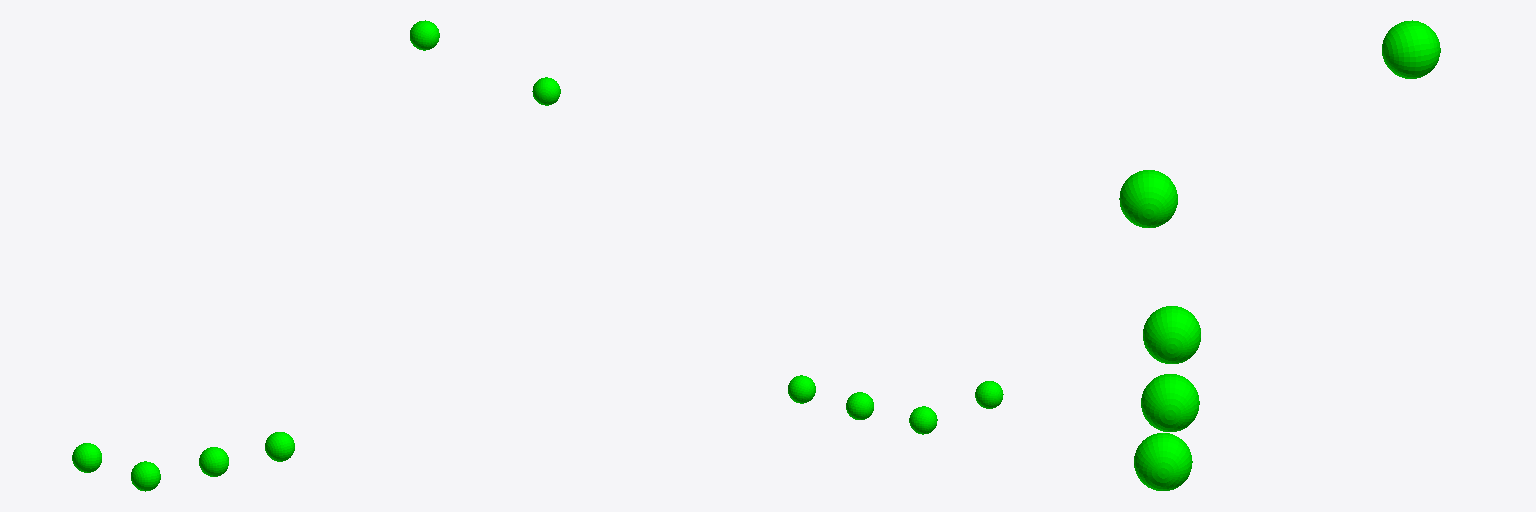
robot.urdf — urdf_right_11_5:
<robot
  name="urdf_right_11_5">
  
  <!-- <link name="world"/>

  <joint name="R_hand_base_joint" type="fixed">
    <origin
    xyz="0.5 0.5 0.001"
    rpy="3.14  0 1.57" />
    <parent link="world"/>
    <child link="right_base_link"/>
  </joint> -->

  <link
    name="right_base_link">
    <inertial>
      <origin
        xyz="-4.91696692515552E-05 -0.00297934158474353 -0.0724838074966582"
        rpy="0 0 0" />
      <mass
        value="0.260034351097693" />
      <inertia
        ixx="0.000240584294557413"
        ixy="1.12900341553271E-06"
        ixz="5.34716263010627E-07"
        iyy="0.000284423438713157"
        iyz="-1.41174524262487E-05"
        izz="0.000155854672271766" />
    </inertial>
    <visual>
      <origin
        xyz="0 0 0"
        rpy="0 0 0" />
      <geometry>
        <mesh
          filename="../meshes/right_base_link.STL" />
      </geometry>
      <material
        name="">
        <color
          rgba="1 1 1 1" />
      </material>
    </visual>
    <collision>
      <origin
        xyz="0 0 0"
        rpy="0 0 0" />
      <geometry>
        <mesh
          filename="../meshes/right_base_link.STL" />
      </geometry>
    </collision>
  </link>

  <link
    name="right_thumb_1">
    <inertial>
      <origin
        xyz="-0.00178423179132732 0.000649410769092404 0.00488589310434417"
        rpy="0 0 0" />
      <mass
        value="0.00115518743162309" />
      <inertia
        ixx="5.98911473694571E-08"
        ixy="-8.04324266712912E-09"
        ixz="-3.29346964287939E-09"
        iyy="4.07201940087006E-08"
        iyz="1.1987242259973E-09"
        izz="6.18161684388651E-08" />
    </inertial>
    <visual>
      <origin
        xyz="0 0 0"
        rpy="0 0 0" />
      <geometry>
        <mesh
          filename="../meshes/right_thumb_1.STL" />
      </geometry>
      <material
        name="">
        <color
          rgba="1 1 1 1" />
      </material>
    </visual>
    <collision>
      <origin
        xyz="0 0 0"
        rpy="0 0 0" />
      <geometry>
        <mesh
          filename="../meshes/right_thumb_1.STL" />
      </geometry>
    </collision>
  </link>
  <joint
    name="right_thumb_1_joint"
    type="revolute">
    <origin
      xyz="0.0269 0.02101 -0.069"
      rpy="-3.1416 0 -3.1416" />
    <parent
      link="right_base_link" />
    <child
      link="right_thumb_1" />
    <axis
      xyz="0 0 -1" />
    <limit
      lower="0"
      upper="1.15"
      effort="10"
      velocity="1" />
  </joint>
  <link
    name="right_thumb_2">
    <inertial>
      <origin
        xyz="0.0141071308121962 0.0132720367246953 -0.00905029680056009"
        rpy="0 0 0" />
      <mass
        value="0.016" />
      <inertia
        ixx="1.06573287501608E-06"
        ixy="-7.61985755293293E-08"
        ixz="-2.57609628655293E-11"
        iyy="1.06536320559038E-06"
        iyz="5.09603163270097E-12"
        izz="1.39688473195303E-06" />
    </inertial>
    <visual>
      <origin
        xyz="0 0 0"
        rpy="0 0 0" />
      <geometry>
        <mesh
          filename="../meshes/right_thumb_2.STL" />
      </geometry>
      <material
        name="">
        <color
          rgba="1 1 1 1" />
      </material>
    </visual>
    <collision>
      <origin
        xyz="0 0 0"
        rpy="0 0 0" />
      <geometry>
        <mesh
          filename="../meshes/right_thumb_2.STL" />
      </geometry>
    </collision>
  </link>
  <joint
    name="right_thumb_2_joint"
    type="revolute">
    <origin
      xyz="-0.0063016 0.011924 0.003"
      rpy="1.5708 0 2.7925" />
    <parent
      link="right_thumb_1" />
    <child
      link="right_thumb_2" />
    <axis
      xyz="0 0 1" />
    <limit
      lower="0"
      upper="0.55"
      effort="10"
      velocity="1" />
  </joint>
  <link
    name="right_thumb_3">
    <inertial>
      <origin
        xyz="0.00937843602210774 0.00404407714692963 -0.00753947150343212"
        rpy="0 0 0" />
      <mass
        value="0.012" />
      <inertia
        ixx="4.67837152048068E-07"
        ixy="-4.50034504480504E-08"
        ixz="-7.50604972036399E-11"
        iyy="3.98821847444202E-07"
        iyz="-2.80308780973008E-10"
        izz="4.24792779381109E-07" />
    </inertial>
    <visual>
      <origin
        xyz="0 0 0"
        rpy="0 0 0" />
      <geometry>
        <mesh
          filename="../meshes/right_thumb_3.STL" />
      </geometry>
      <material
        name="">
        <color
          rgba="1 1 1 1" />
      </material>
    </visual>
    <collision>
      <origin
        xyz="0 0 0"
        rpy="0 0 0" />
      <geometry>
        <mesh
          filename="../meshes/right_thumb_3.STL" />
      </geometry>
    </collision>
  </link>
  <joint
    name="right_thumb_3_joint"
    type="revolute">
    <origin
      xyz="0.034968 0.021325 -0.0015"
      rpy="0 0 0" />
    <parent
      link="right_thumb_2" />
    <child
      link="right_thumb_3" />
    <axis
      xyz="0 0 1" />
    <limit
      lower="0"
      upper="3.14"
      effort="10"
      velocity="1" />
    <mimic
        joint="right_thumb_2_joint"
        multiplier="0.60"
        offset="0" />
  </joint>
  <link
    name="right_thumb_4">
    <inertial>
      <origin
        xyz="0.0109973997213043 0.00131062737520288 -0.0073435196000655"
        rpy="0 0 0" />
      <mass
        value="0.01" />
      <inertia
        ixx="6.43617695804108E-07"
        ixy="-2.57371067432159E-07"
        ixz="8.83834214745077E-10"
        iyy="7.63665185138253E-07"
        iyz="7.47494238463672E-10"
        izz="9.2568863295396E-07" />
    </inertial>
    <visual>
      <origin
        xyz="0 0 0"
        rpy="0 0 0" />
      <geometry>
        <mesh
          filename="../meshes/right_thumb_4.STL" />
      </geometry>
      <material
        name="">
        <color
          rgba="1 1 1 1" />
      </material>
    </visual>
    <collision>
      <origin
        xyz="0 0 0"
        rpy="0 0 0" />
      <geometry>
        <mesh
          filename="../meshes/right_thumb_4.STL" />
      </geometry>
    </collision>
  </link>

  <joint
    name="right_thumb_4_joint"
    type="revolute">
    <origin
      xyz="0.018887 0.011501 -0.0002"
      rpy="0 0 0" />
    <parent
      link="right_thumb_3" />
    <child
      link="right_thumb_4" />
    <axis
      xyz="0 0 1" />
    <limit
      lower="0"
      upper="3.14"
      effort="10"
      velocity="1" />
    <mimic
        joint="right_thumb_2_joint"
        multiplier="0.8"
        offset="0" />
  </joint>

  <link name="R_thumb_tip">
    <visual>
      <origin
        xyz="0 0 0"
        rpy="0 0 0" />
      <geometry>
        <sphere radius="0.005"/>
      </geometry>
      <material name="green">
        <color rgba="0 1 0 1" />
      </material>
    </visual>
  </link>

  <joint name="R_thumb_tip_joint" type="fixed">
    <parent link="right_thumb_4"/>
    <child link="R_thumb_tip"/>
    <origin rpy="0 0 0" xyz="0.03 0.020 -0.006"/>
  </joint>

  <link
    name="right_index_1">
    <inertial>
      <origin
        xyz="-0.00183546255523356 0.0123552521861834 -0.00664922294778368"
        rpy="0 0 0" />
      <mass
        value="0.00719999389753264" />
      <inertia
        ixx="1.28371991025318E-06"
        ixy="4.21564829206078E-08"
        ixz="-4.10859703056649E-12"
        iyy="5.79478432222904E-07"
        iyz="6.39690407239206E-11"
        izz="1.32925246769088E-06" />
    </inertial>
    <visual>
      <origin
        xyz="0 0 0"
        rpy="0 0 0" />
      <geometry>
        <mesh
          filename="../meshes/right_index_1.STL" />
      </geometry>
      <material
        name="">
        <color
          rgba="1 1 1 1" />
      </material>
    </visual>
    <collision>
      <origin
        xyz="0 0 0"
        rpy="0 0 0" />
      <geometry>
        <mesh
          filename="../meshes/right_index_1.STL" />
      </geometry>
    </collision>
  </link>
  <joint
    name="right_index_1_joint"
    type="revolute">
    <origin
      xyz="0.038679 0.00056467 -0.1564"
      rpy="-1.5359 0 -1.5708" />
    <parent
      link="right_base_link" />
    <child
      link="right_index_1" />
    <axis
      xyz="0 0 1" />
    <limit
      lower="0"
      upper="1.6"
      effort="10"
      velocity="1" />
  </joint>
  <link
    name="right_index_2">
    <inertial>
      <origin
        xyz="0.000405081354201142 0.0257028143581744 -0.00609275623125877"
        rpy="0 0 0" />
      <mass
        value="0.0096859422185797" />
      <inertia
        ixx="2.25513837942244E-06"
        ixy="4.11239564383381E-07"
        ixz="-3.94499739658711E-10"
        iyy="3.91290903748666E-07"
        iyz="2.79706871963245E-09"
        izz="2.30200483771215E-06" />
    </inertial>
    <visual>
      <origin
        xyz="0 0 0"
        rpy="0 0 0" />
      <geometry>
        <mesh
          filename="../meshes/right_index_2.STL" />
      </geometry>
      <material
        name="">
        <color
          rgba="1 1 1 1" />
      </material>
    </visual>
    <collision>
      <origin
        xyz="0 0 0"
        rpy="0 0 0" />
      <geometry>
        <mesh
          filename="../meshes/right_index_2.STL" />
      </geometry>
    </collision>
  </link>
  <joint
    name="right_index_2_joint"
    type="revolute">
    <origin
      xyz="-0.0016312 0.032734 -0.00055"
      rpy="0 0 0" />
    <parent
      link="right_index_1" />
    <child
      link="right_index_2" />
    <axis
      xyz="0 0 1" />
    <limit
      lower="0"
      upper="3.14"
      effort="10"
      velocity="1" />
    <mimic
        joint="right_index_1_joint"
        multiplier="1.05"
        offset="0" />
  </joint>


  <link name="R_index_tip">
    <visual>
      <origin
        xyz="0 0 0"
        rpy="0 0 0" />
      <geometry>
        <sphere radius="0.005"/>
      </geometry>
      <material name="green">
        <color rgba="0 1 0 1" />
      </material>
    </visual>
  </link>

  <joint name="R_index_tip_joint" type="fixed">
    <parent link="right_index_2"/>
    <child link="R_index_tip"/>
    <origin rpy="0 0 0" xyz="-0.01 0.05 -0.006"/>
  </joint>

  <link
    name="right_middle_1">
    <inertial>
      <origin
        xyz="-0.00229221489529491 0.0122787164691098 -0.00664923691414206"
        rpy="0 0 0" />
      <mass
        value="0.00719999454699651" />
      <inertia
        ixx="1.27961146095209E-06"
        ixy="6.81307502326408E-08"
        ixz="-6.13869092479439E-12"
        iyy="5.83570383259162E-07"
        iyz="6.33401074034573E-11"
        izz="1.32923656099557E-06" />
    </inertial>
    <visual>
      <origin
        xyz="0 0 0"
        rpy="0 0 0" />
      <geometry>
        <mesh
          filename="../meshes/right_middle_1.STL" />
      </geometry>
      <material
        name="">
        <color
          rgba="1 1 1 1" />
      </material>
    </visual>
    <collision>
      <origin
        xyz="0 0 0"
        rpy="0 0 0" />
      <geometry>
        <mesh
          filename="../meshes/right_middle_1.STL" />
      </geometry>
    </collision>
  </link>
  <joint
    name="right_middle_1_joint"
    type="revolute">
    <origin
      xyz="0.0171 0.00056467 -0.157"
      rpy="-1.5708 0 -1.5708" />
    <parent
      link="right_base_link" />
    <child
      link="right_middle_1" />
    <axis
      xyz="0 0 1" />
    <limit
      lower="0"
      upper="1.6"
      effort="10"
      velocity="1" />
  </joint>
  <link
    name="right_middle_2">
    <inertial>
      <origin
        xyz="7.55635061812504E-05 0.0274472409700489 -0.00610051225570537"
        rpy="0 0 0" />
      <mass
        value="0.0104603374357648" />
      <inertia
        ixx="2.75802690517233E-06"
        ixy="4.66354191789105E-07"
        ixz="-3.73412436067728E-12"
        iyy="4.22418749660047E-07"
        iyz="7.48571284682703E-11"
        izz="2.80694637912416E-06" />
    </inertial>
    <visual>
      <origin
        xyz="0 0 0"
        rpy="0 0 0" />
      <geometry>
        <mesh
          filename="../meshes/right_middle_2.STL" />
      </geometry>
      <material
        name="">
        <color
          rgba="1 1 1 1" />
      </material>
    </visual>
    <collision>
      <origin
        xyz="0 0 0"
        rpy="0 0 0" />
      <geometry>
        <mesh
          filename="../meshes/right_middle_2.STL" />
      </geometry>
    </collision>
  </link>
  <joint
    name="right_middle_2_joint"
    type="revolute">
    <origin
      xyz="-0.0028436 0.032651 -0.00055"
      rpy="0 0 0" />
    <parent
      link="right_middle_1" />
    <child
      link="right_middle_2" />
    <axis
      xyz="0 0 1" />
    <limit
      lower="0"
      upper="3.14"
      effort="10"
      velocity="1" />
    <mimic
        joint="right_middle_1_joint"
        multiplier="1.05"
        offset="0" />
  </joint>

  <link name="R_middle_tip">
    <visual>
      <origin
        xyz="0 0 0"
        rpy="0 0 0" />
      <geometry>
        <sphere radius="0.005"/>
      </geometry>
      <material name="green">
        <color rgba="0 1 0 1" />
      </material>
    </visual>
  </link>

  <joint name="R_middle_tip_joint" type="fixed">
    <parent link="right_middle_2"/>
    <child link="R_middle_tip"/>
    <origin rpy="0 0 0" xyz="-0.01 0.05 -0.006"/>
  </joint>


  <link
    name="right_ring_1">
    <inertial>
      <origin
        xyz="-0.00240481178777661 0.0122571709475593 -0.00664923625225445"
        rpy="0 0 0" />
      <mass
        value="0.00719998997814135" />
      <inertia
        ixx="1.27830103769765E-06"
        ixy="7.45073064952646E-08"
        ixz="-6.73880804360017E-12"
        iyy="5.84879553082369E-07"
        iyz="6.3350585052199E-11"
        izz="1.32923557625193E-06" />
    </inertial>
    <visual>
      <origin
        xyz="0 0 0"
        rpy="0 0 0" />
      <geometry>
        <mesh
          filename="../meshes/right_ring_1.STL" />
      </geometry>
      <material
        name="">
        <color
          rgba="1 1 1 1" />
      </material>
    </visual>
    <collision>
      <origin
        xyz="0 0 0"
        rpy="0 0 0" />
      <geometry>
        <mesh
          filename="../meshes/right_ring_1.STL" />
      </geometry>
    </collision>
  </link>
  <joint
    name="right_ring_1_joint"
    type="revolute">
    <origin
      xyz="-0.0045302 0.00056467 -0.15683"
      rpy="-1.6232 0 -1.5708" />
    <parent
      link="right_base_link" />
    <child
      link="right_ring_1" />
    <axis
      xyz="0 0 1" />
    <limit
      lower="0"
      upper="1.6"
      effort="10"
      velocity="1" />
  </joint>
  <link
    name="right_ring_2">
    <inertial>
      <origin
        xyz="0.000666830906754845 0.0256973412492289 -0.0060927714564012"
        rpy="0 0 0" />
      <mass
        value="0.0096859390369724" />
      <inertia
        ixx="2.26332196405867E-06"
        ixy="3.92172318180451E-07"
        ixz="-3.65715440420713E-10"
        iyy="3.83108005467821E-07"
        iyz="2.80158649618184E-09"
        izz="2.30200501593561E-06" />
    </inertial>
    <visual>
      <origin
        xyz="0 0 0"
        rpy="0 0 0" />
      <geometry>
        <mesh
          filename="../meshes/right_ring_2.STL" />
      </geometry>
      <material
        name="">
        <color
          rgba="1 1 1 1" />
      </material>
    </visual>
    <collision>
      <origin
        xyz="0 0 0"
        rpy="0 0 0" />
      <geometry>
        <mesh
          filename="../meshes/right_ring_2.STL" />
      </geometry>
    </collision>
  </link>
  <joint
    name="right_ring_2_joint"
    type="revolute">
    <origin
      xyz="-0.0031431 0.032624 -0.00055"
      rpy="0 0 0" />
    <parent
      link="right_ring_1" />
    <child
      link="right_ring_2" />
    <axis
      xyz="0 0 1" />
    <limit
      lower="0"
      upper="3.14"
      effort="10"
      velocity="1" />
    <mimic
        joint="right_ring_1_joint"
        multiplier="1.05"
        offset="0" />
  </joint>

  <link name="R_ring_tip">
    <visual>
      <origin
        xyz="0 0 0"
        rpy="0 0 0" />
      <geometry>
        <sphere radius="0.005"/>
      </geometry>
      <material name="green">
        <color rgba="0 1 0 1" />
      </material>
    </visual>
  </link>

  <joint name="R_ring_tip_joint" type="fixed">
    <parent link="right_ring_2"/>
    <child link="R_ring_tip"/>
    <origin rpy="0 0 0" xyz="-0.01 0.05 -0.006"/>
  </joint>

  <link
    name="right_little_1">
    <inertial>
      <origin
        xyz="-0.00316844591541324 0.0120823779446085 -0.00664923024026526"
        rpy="0 0 0" />
      <mass
        value="0.00719994987013217" />
      <inertia
        ixx="1.26624415714453E-06"
        ixy="1.17303714016617E-07"
        ixz="-1.15327375313821E-11"
        iyy="5.96925804604496E-07"
        iyz="6.36110319315301E-11"
        izz="1.32922857962206E-06" />
    </inertial>
    <visual>
      <origin
        xyz="0 0 0"
        rpy="0 0 0" />
      <geometry>
        <mesh
          filename="../meshes/right_little_1.STL" />
      </geometry>
      <material
        name="">
        <color
          rgba="1 1 1 1" />
      </material>
    </visual>
    <collision>
      <origin
        xyz="0 0 0"
        rpy="0 0 0" />
      <geometry>
        <mesh
          filename="../meshes/right_little_1.STL" />
      </geometry>
    </collision>
  </link>
  <joint
    name="right_little_1_joint"
    type="revolute">
    <origin
      xyz="-0.025916 0.00056467 -0.15365"
      rpy="-1.6755 0 -1.5708" />
    <parent
      link="right_base_link" />
    <child
      link="right_little_1" />
    <axis
      xyz="0 0 1" />
    <limit
      lower="0"
      upper="1.6"
      effort="10"
      velocity="1" />
  </joint>
  <link
    name="right_little_2">
    <inertial>
      <origin
        xyz="0.0204417303421136 -0.00469494170410353 -0.00609999668427265"
        rpy="0 0 0" />
      <mass
        value="0.0075928240732547" />
      <inertia
        ixx="2.31546812157118E-07"
        ixy="-7.27021381773956E-08"
        ixz="2.3664966486269E-11"
        iyy="1.27663957628266E-06"
        iyz="-7.58283070676144E-12"
        izz="1.23909562166535E-06" />
    </inertial>
    <visual>
      <origin
        xyz="0 0 0"
        rpy="0 0 0" />
      <geometry>
        <mesh
          filename="../meshes/right_little_2.STL" />
      </geometry>
      <material
        name="">
        <color
          rgba="1 1 1 1" />
      </material>
    </visual>
    <collision>
      <origin
        xyz="0 0 0"
        rpy="0 0 0" />
      <geometry>
        <mesh
          filename="../meshes/right_little_2.STL" />
      </geometry>
    </collision>
  </link>
  <joint
    name="right_little_2_joint"
    type="revolute">
    <origin
      xyz="-0.005182 0.032363 -0.00055"
      rpy="0 0 1.5708" />
    <parent
      link="right_little_1" />
    <child
      link="right_little_2" />
    <axis
      xyz="0 0 1" />
    <limit
      lower="0"
      upper="3.14"
      effort="10"
      velocity="1" />
    <mimic
        joint="right_little_1_joint"
        multiplier="1.18"
        offset="0" />
  </joint>

  <link name="R_little_tip">
    <visual>
      <origin
        xyz="0 0 0"
        rpy="0 0 0" />
      <geometry>
        <sphere radius="0.005"/>
      </geometry>
      <material name="green">
        <color rgba="0 1 0 1" />
      </material>
    </visual>
  </link>

  <joint name="R_little_tip_joint" type="fixed">
    <parent link="right_little_2"/>
    <child link="R_little_tip"/>
    <origin rpy="0 0 0" xyz="0.04 0.004 -0.006"/>
  </joint>

</robot>

--- Facts derived from the render (not from the file) ---
Views: 3 orthographic renders of the robot side by side, from view 1: azimuth 30°, elevation 25°; view 2: azimuth 150°, elevation 25°; view 3: azimuth 270°, elevation 25°.
Model urdf_right_11_5 with 18 links and 17 joints (12 revolute, 5 fixed), rooted at right_base_link, posed every joint at zero.
Links seen in each view (by area): view 1: R_middle_tip, R_thumb_tip, R_index_tip, R_ring_tip, R_little_tip; view 2: R_little_tip, R_index_tip, R_middle_tip, R_thumb_tip, R_ring_tip; view 3: R_thumb_tip, R_middle_tip, R_ring_tip, R_little_tip, R_index_tip.
Boxes of the visible links, x1,y1,x2,y2 form: R_middle_tip: [199, 447, 228, 476]; R_thumb_tip: [410, 20, 439, 50]; R_index_tip: [265, 432, 294, 461]; R_ring_tip: [131, 461, 160, 491]; R_little_tip: [72, 443, 101, 472]; R_little_tip: [975, 381, 1003, 408]; R_index_tip: [788, 375, 815, 403]; R_middle_tip: [846, 392, 873, 419]; R_thumb_tip: [532, 77, 560, 105]; R_ring_tip: [909, 406, 937, 434]; R_thumb_tip: [1382, 20, 1440, 78]; R_middle_tip: [1141, 374, 1199, 431]; R_ring_tip: [1143, 306, 1200, 363]; R_little_tip: [1119, 170, 1177, 227]; R_index_tip: [1134, 433, 1192, 490].
Bounding box of the posed robot: 0.1646 × 0.0546 × 0.1248 m (x, y, z).
Meshes: 13 distinct files referenced, 0 mesh visuals loaded (none loaded); not drawn: 13 (reference not matched to a file when rendering).